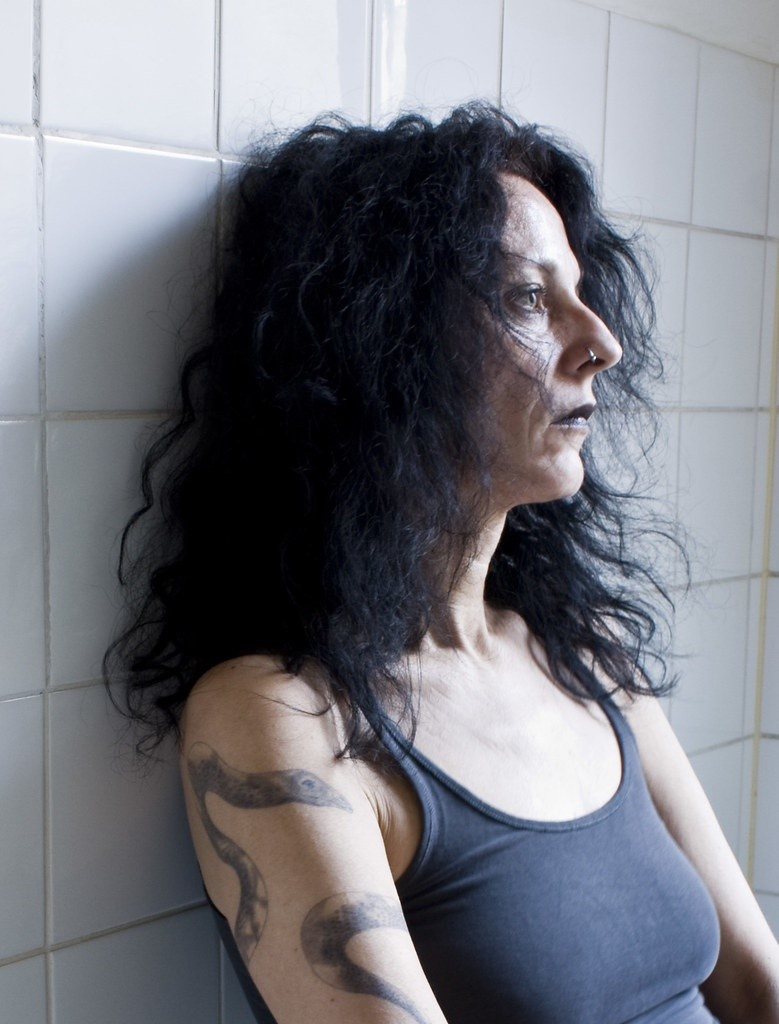face_no_mask: (240, 122, 618, 507)
